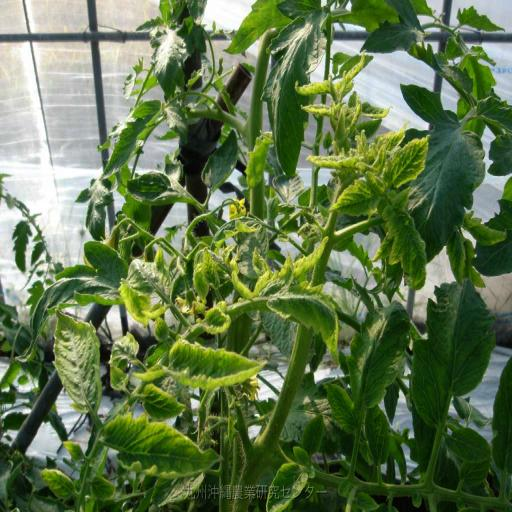disease_tomato: (293, 49, 407, 175), (101, 414, 225, 480), (49, 300, 105, 422), (159, 338, 273, 390), (273, 278, 345, 360), (382, 199, 430, 289), (254, 458, 316, 512), (386, 130, 432, 194), (334, 176, 382, 226), (118, 276, 156, 330), (194, 306, 234, 334)
